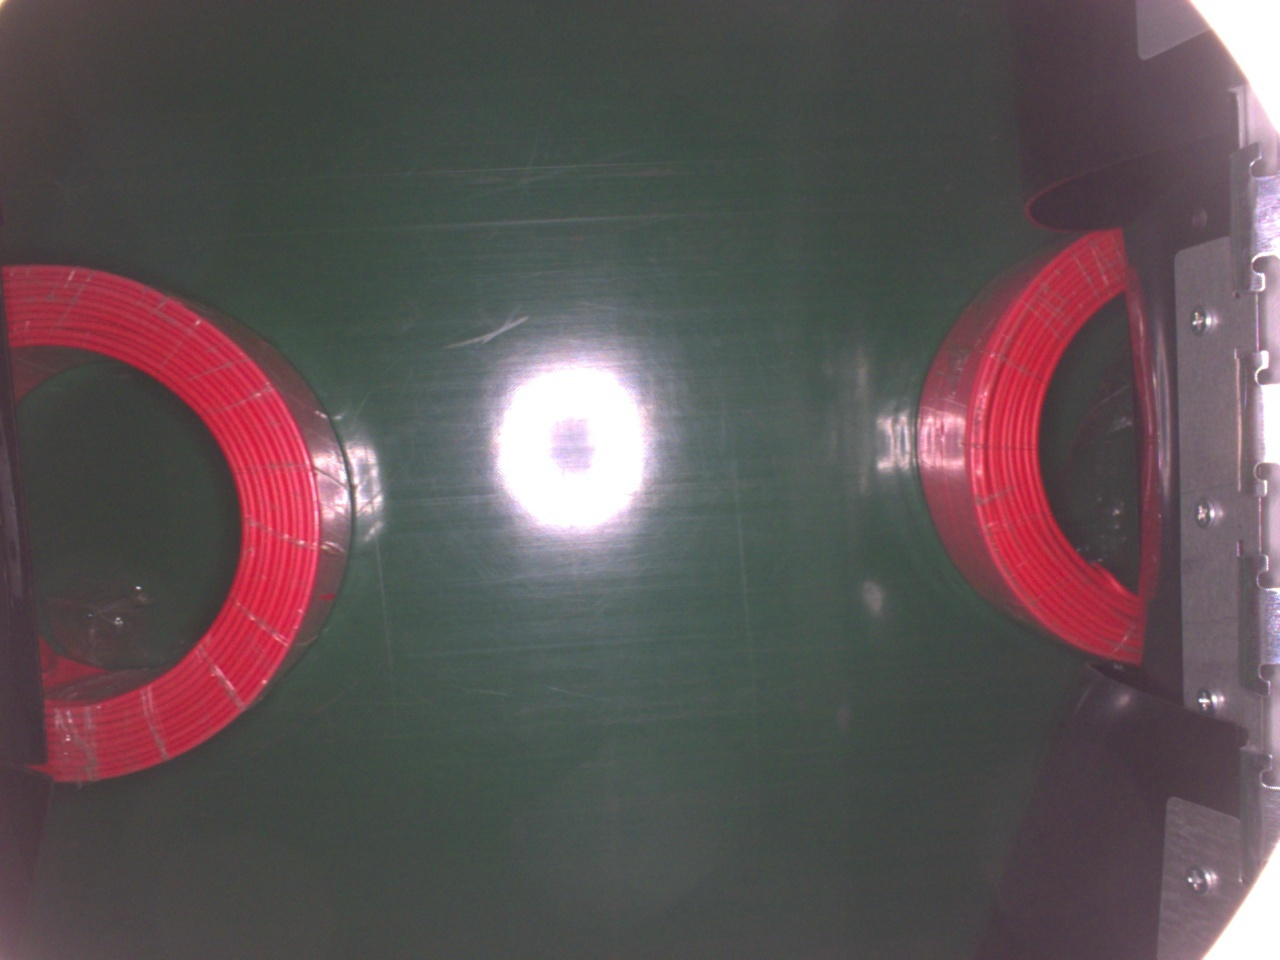red: (0, 258, 356, 786), (911, 218, 1161, 670)
